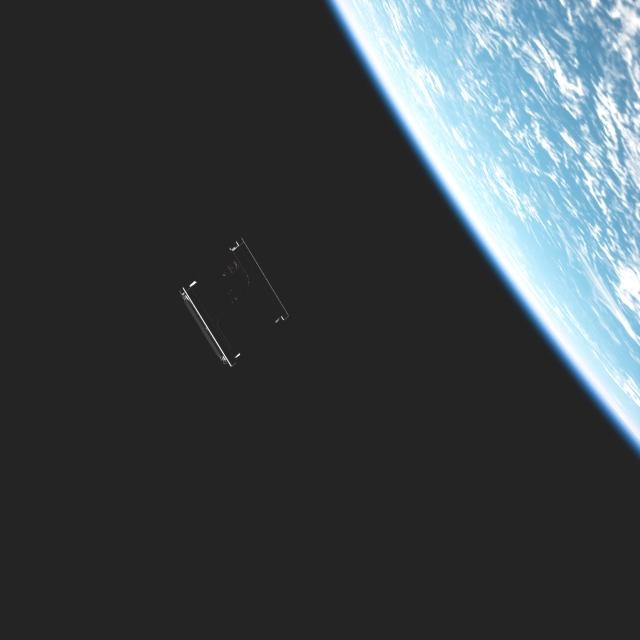satellite: (176, 232, 291, 365)
